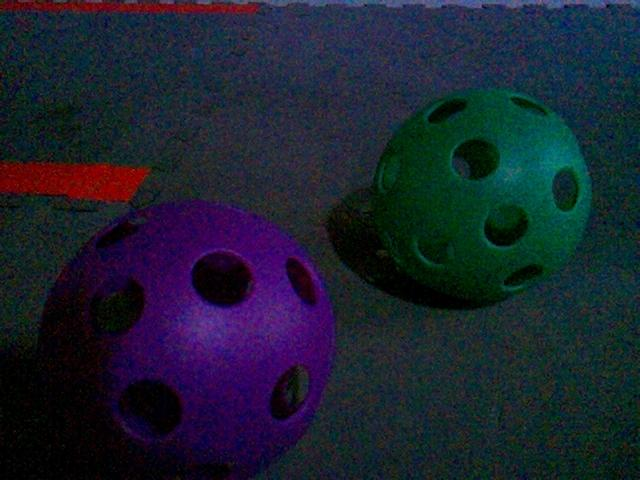Green: (356, 86, 598, 306)
Purple: (36, 199, 336, 478)
